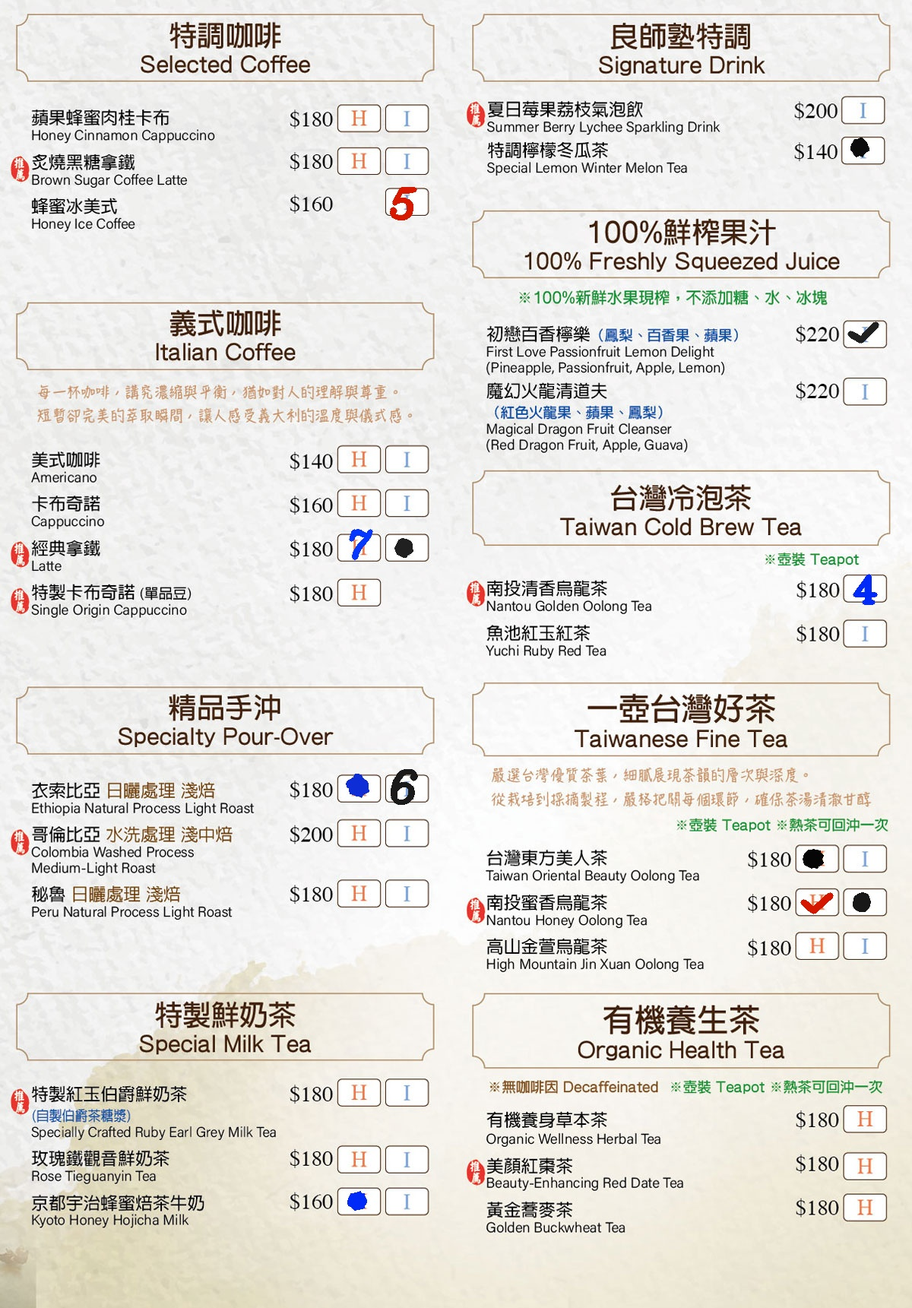marked_circle: (339, 776, 378, 800), (842, 138, 881, 162), (796, 845, 835, 869), (844, 890, 883, 914), (388, 535, 426, 559), (340, 1189, 379, 1212)
marked_number_4: (846, 576, 885, 600)
marked_number_5: (387, 190, 426, 214)
marked_number_6: (387, 775, 426, 799)
marked_number_7: (339, 535, 378, 559)
marked_tick: (845, 321, 884, 345), (799, 892, 838, 915)
